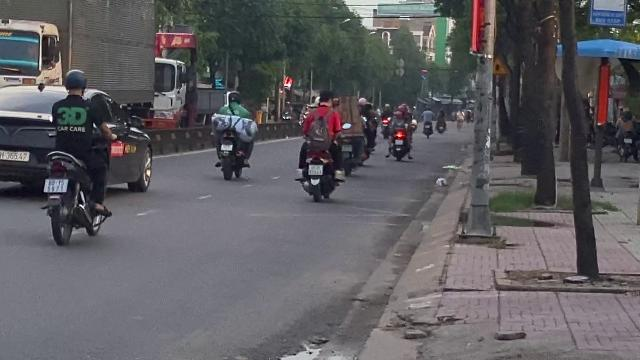helmet: (63, 68, 87, 96)
licenseplate: (44, 178, 68, 192)
motorcyclist: (40, 66, 114, 246)
